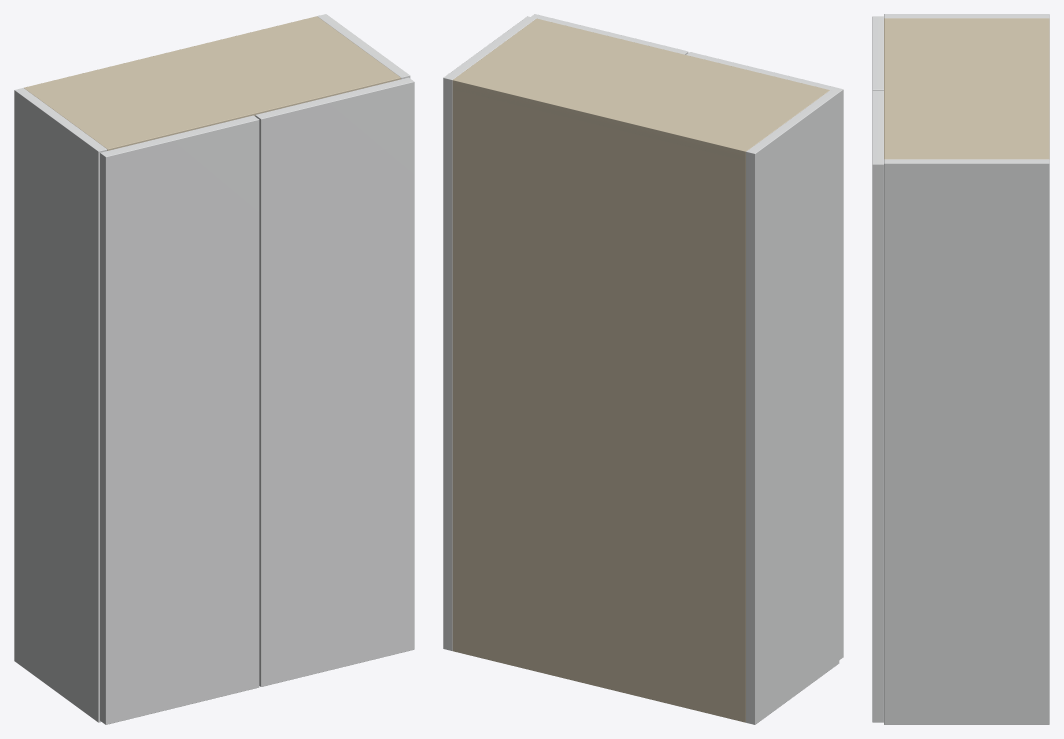
The model's file is oppein-ply-pgw-w2442.glb.
3 views of the same model, side by side, from view 1: azimuth 30°, elevation 25°; view 2: azimuth 150°, elevation 25°; view 3: azimuth 270°, elevation 25° (orthographic).
Parts seen in each view (by area): view 1: Door, Door.001, Cabinet side, Cabinet top, Cabinet side.001; view 2: Cabinet back, Cabinet side, Cabinet top, Cabinet side.001, Door, Door.001; view 3: Cabinet side.001, Cabinet top, Door.001, Door, Cabinet side.
Boxes of the visible parts, box(x1,y1,x2,y2) form: Door: box(100, 115, 259, 724); Door.001: box(255, 77, 414, 686); Cabinet side: box(14, 88, 107, 722); Cabinet top: box(24, 16, 400, 150); Cabinet side.001: box(317, 14, 410, 79); Cabinet back: box(452, 81, 745, 722); Cabinet side: box(746, 90, 839, 724); Cabinet top: box(452, 18, 829, 160); Cabinet side.001: box(443, 16, 536, 650); Door: box(686, 52, 843, 659); Door.001: box(531, 14, 688, 54); Cabinet side.001: box(884, 159, 1049, 724); Cabinet top: box(884, 18, 1049, 159); Door.001: box(872, 90, 883, 722); Door: box(872, 16, 883, 90); Cabinet side: box(884, 14, 1049, 18).
Size of the model in its own units: 0.6096 by 1.07 by 0.3048.
